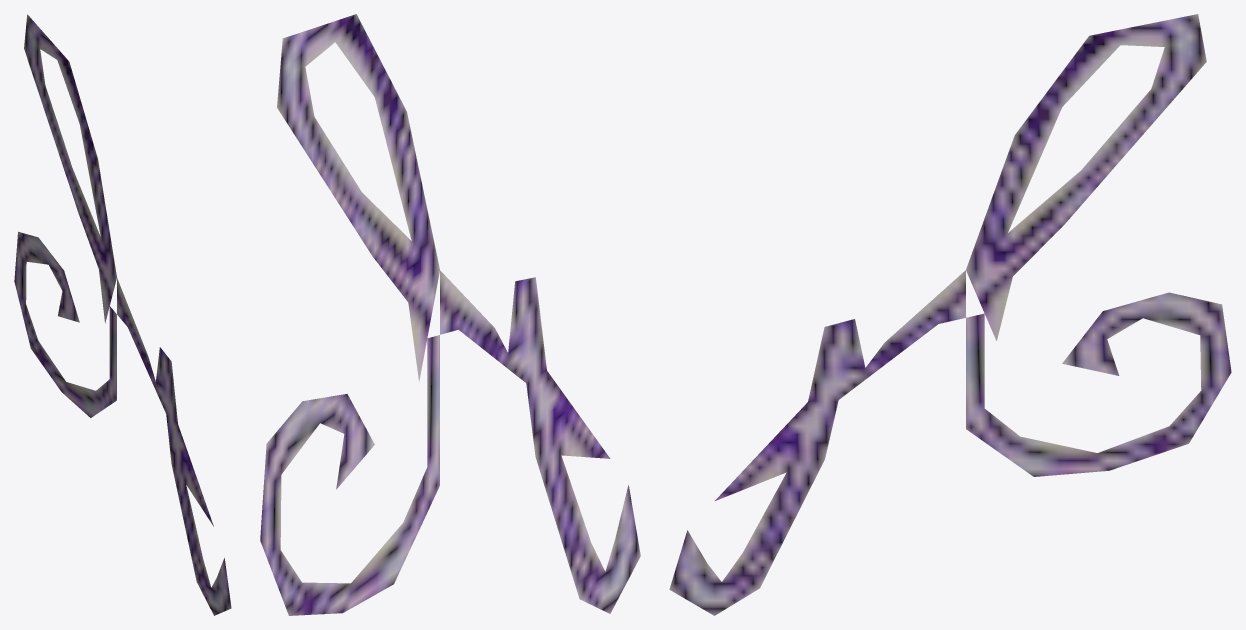
3 renders of one model, left to right at view 1: azimuth 30°, elevation 25°; view 2: azimuth 150°, elevation 25°; view 3: azimuth 270°, elevation 25°, orthographic. The views are drawn at different scales.
Parts seen in each view (by area): view 1: Picsart_22-01-21_15-37-57-171.001; view 2: Picsart_22-01-21_15-37-57-171.001; view 3: Picsart_22-01-21_15-37-57-171.001.
Part boxes in pixels (x1,y1,x2,y2): Picsart_22-01-21_15-37-57-171.001: (14,14,231,615); Picsart_22-01-21_15-37-57-171.001: (260,14,640,615); Picsart_22-01-21_15-37-57-171.001: (669,14,1231,615).
Bounding box in the file's own units: 4.54e-08 × 0.5529 × 0.4679.
Materials: 1 (1 with a texture image).
